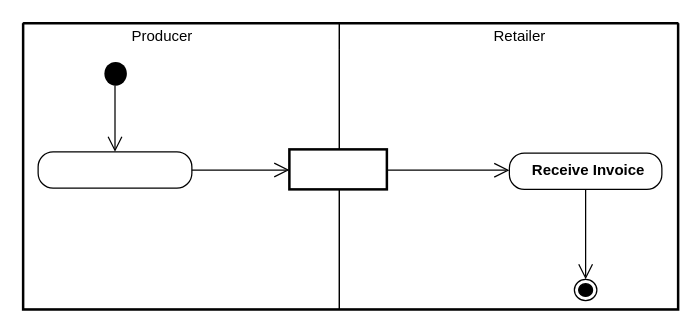
This 700x331 diagram has some shape labels left out. The centre of each missing label's shape, as x and y in pixels:
Invoice: the point at 338,169
Raise Invoice: the point at 114,169
